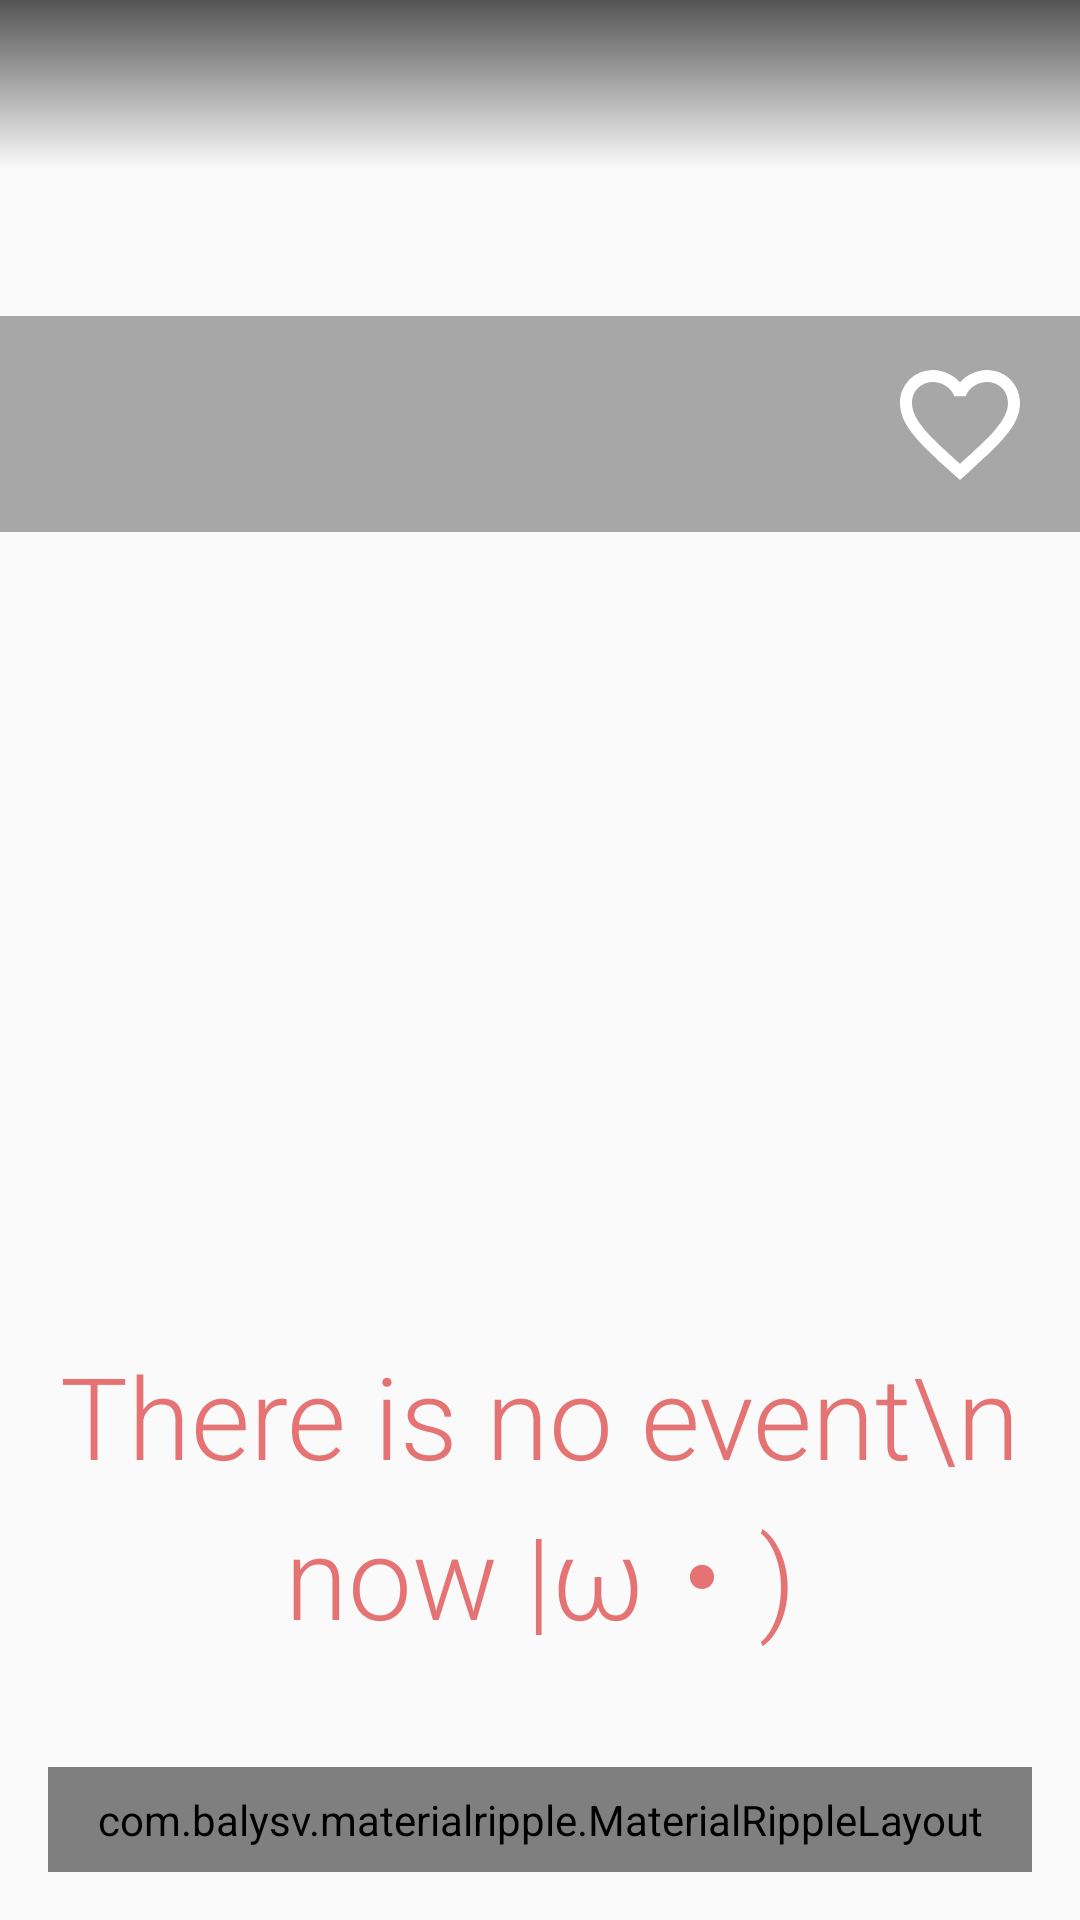

Point at icon controls on the screen. Image size 1080*1920, points as point (x, y).
favorite border: point (960, 425)
